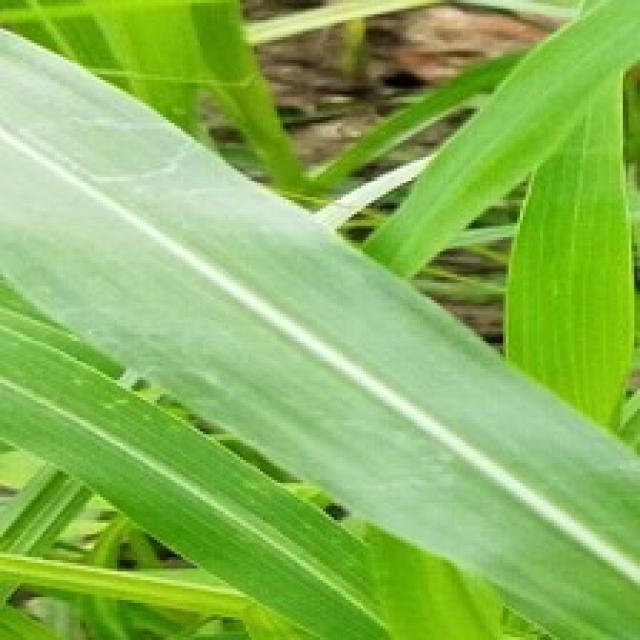Corn: (0, 0, 637, 637), (0, 0, 305, 194), (500, 60, 637, 431)
